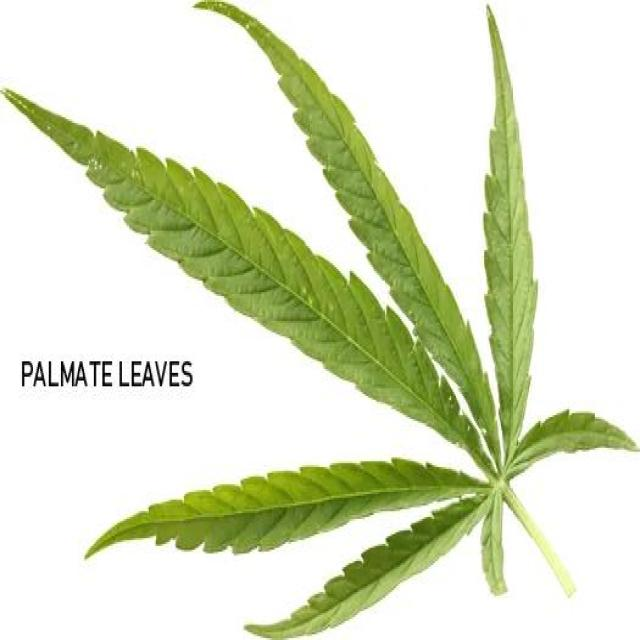cannabis: (4, 0, 639, 638)
